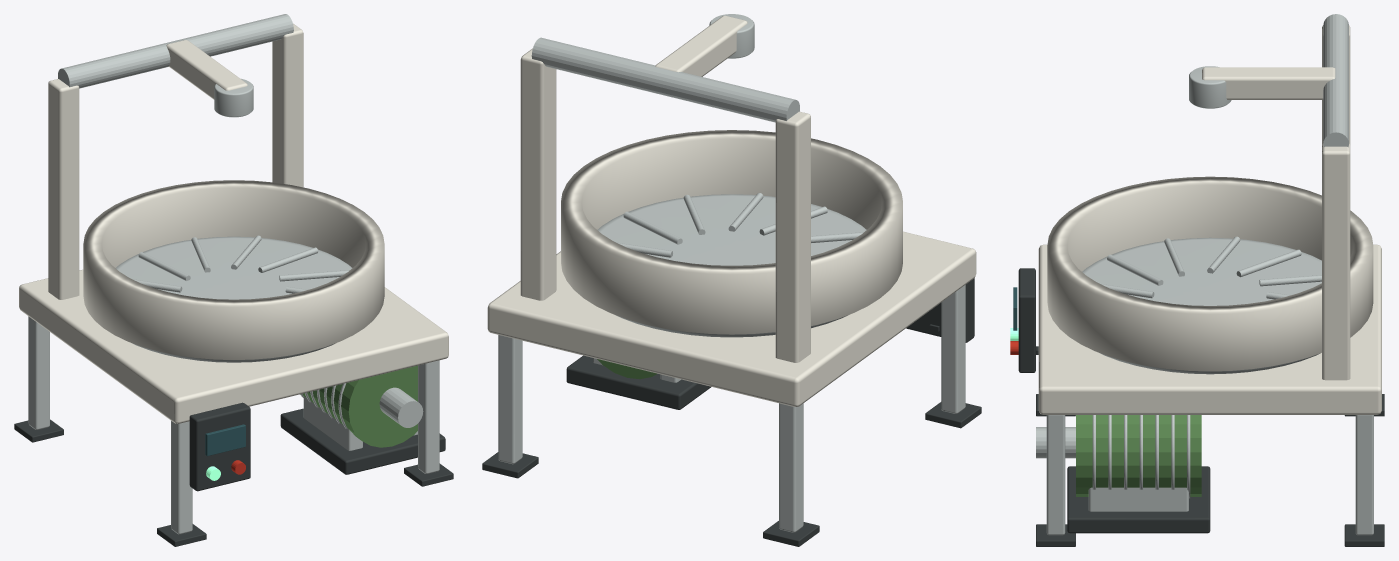
The model's file is tea-garden-and-processing-house-tea-garden-and-process-5c2a2290__30769.glb.
The picture shows the model from 3 angles, left to right: view 1: azimuth 30°, elevation 25°; view 2: azimuth 150°, elevation 25°; view 3: azimuth 270°, elevation 25°; orthographic projection. The views are drawn at different scales.
Visible parts, largest first — view 1: tea-garden-and-processing-house-rolling-table-machine; view 2: tea-garden-and-processing-house-rolling-table-machine; view 3: tea-garden-and-processing-house-rolling-table-machine.
Part boxes in pixels (x1=…): tea-garden-and-processing-house-rolling-table-machine: x1=14, y1=14, x2=453, y2=546; tea-garden-and-processing-house-rolling-table-machine: x1=482, y1=14, x2=981, y2=546; tea-garden-and-processing-house-rolling-table-machine: x1=1010, y1=14, x2=1384, y2=546.
Size of the model in its own units: 1.25 by 1.55 by 1.31.
